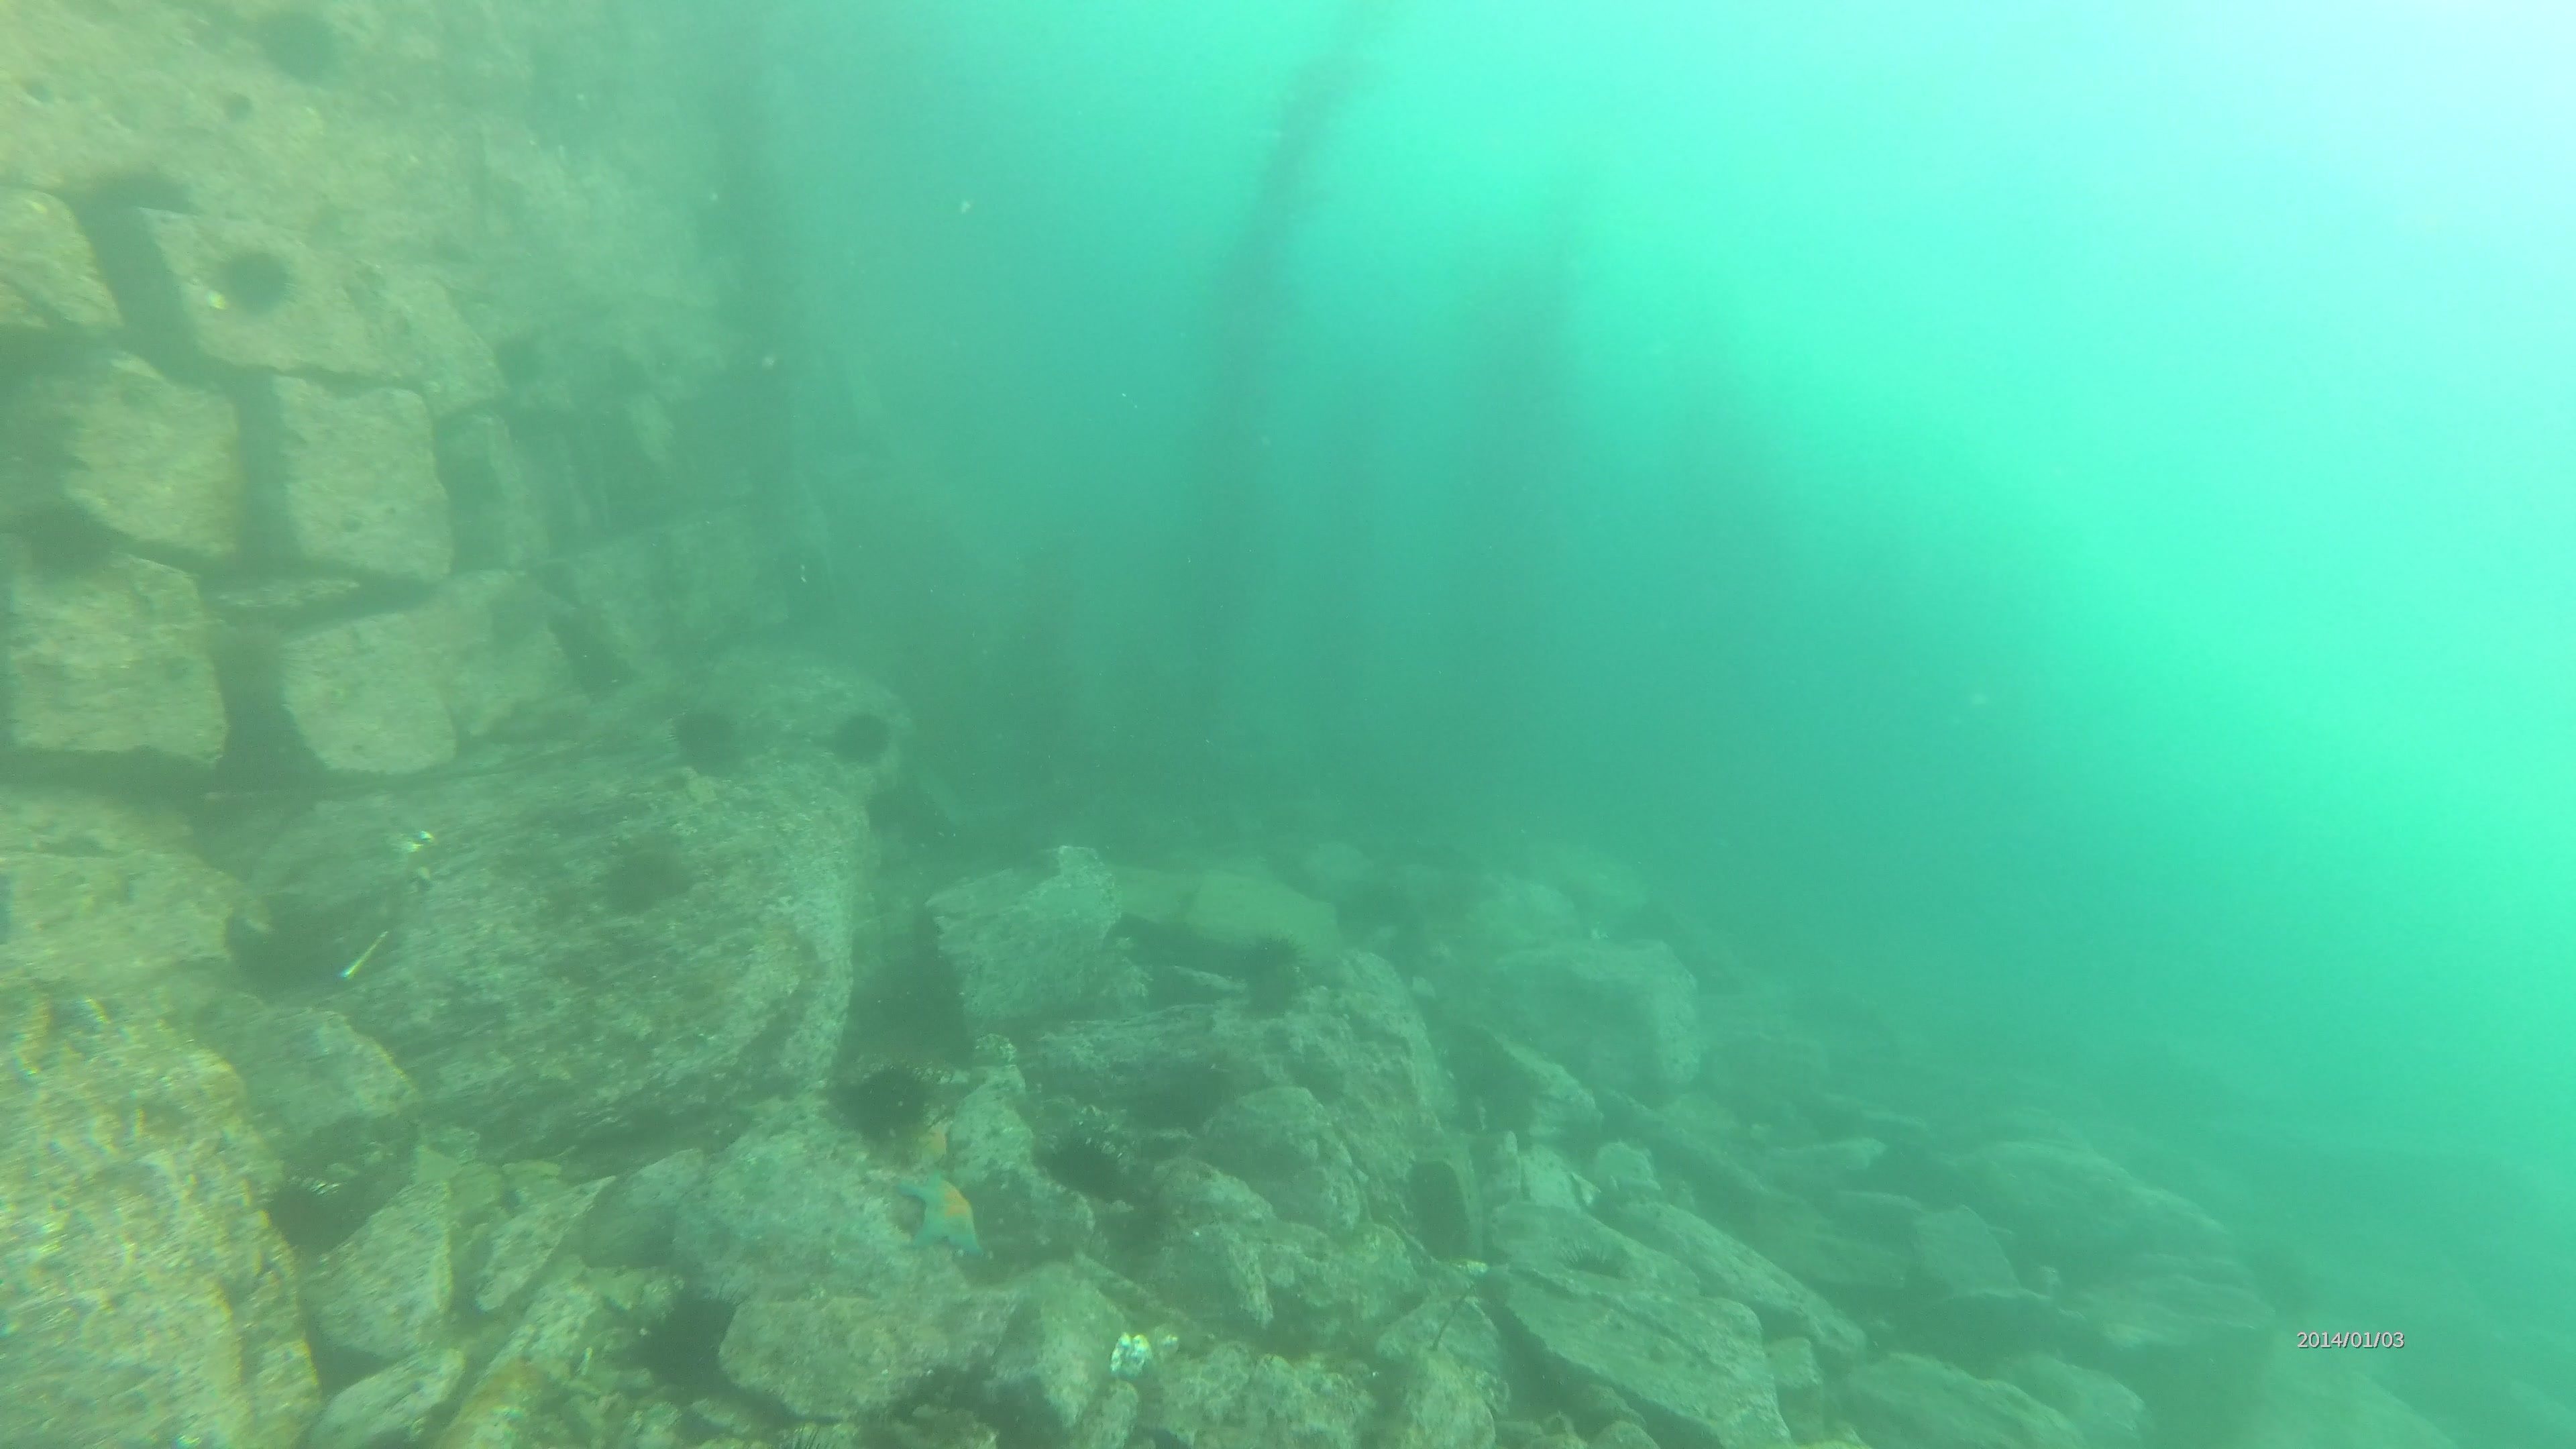echinus: (635, 1297, 766, 1405), (19, 492, 124, 589), (842, 1056, 939, 1155), (258, 1166, 347, 1270), (207, 239, 306, 331), (255, 4, 347, 92), (598, 828, 692, 915), (92, 161, 209, 226), (1047, 1131, 1136, 1214), (1237, 922, 1316, 1008), (674, 699, 750, 787), (479, 318, 561, 398), (1552, 1237, 1644, 1302), (823, 701, 902, 775)
starfish: (893, 1159, 987, 1253)
